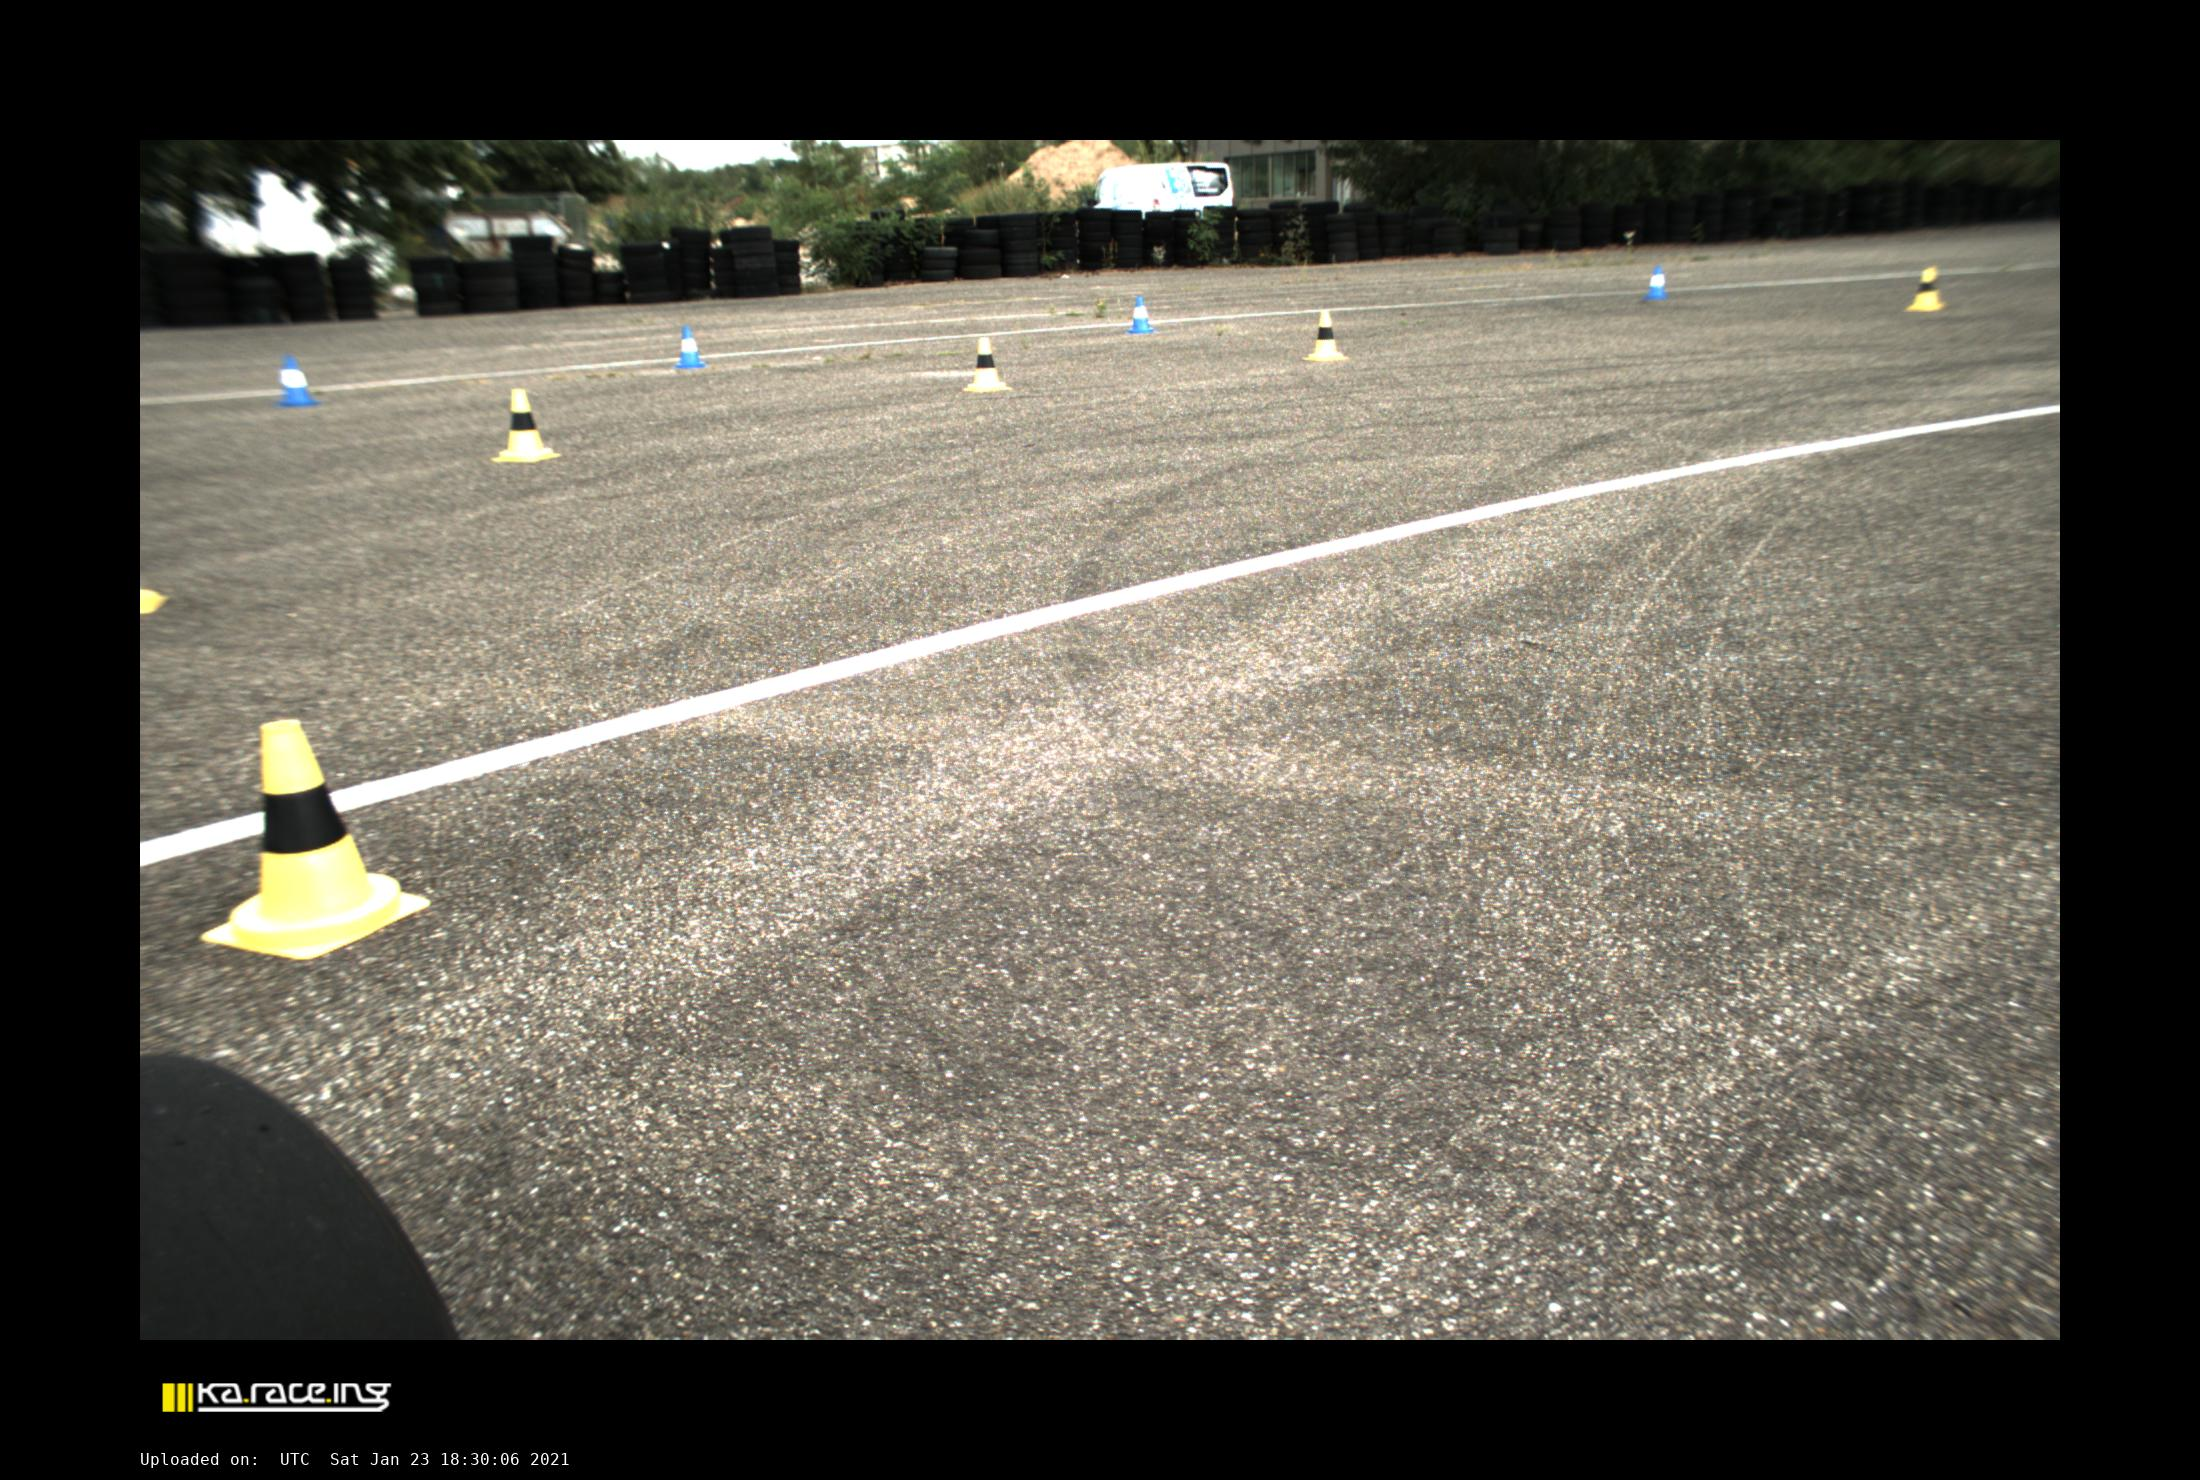blue_cone: (277, 357, 319, 406), (676, 325, 705, 368), (1126, 296, 1155, 334), (1643, 266, 1668, 299)
yellow_cone: (200, 719, 429, 960), (492, 390, 560, 462), (965, 337, 1011, 391), (1303, 311, 1348, 362), (1908, 268, 1944, 311)
